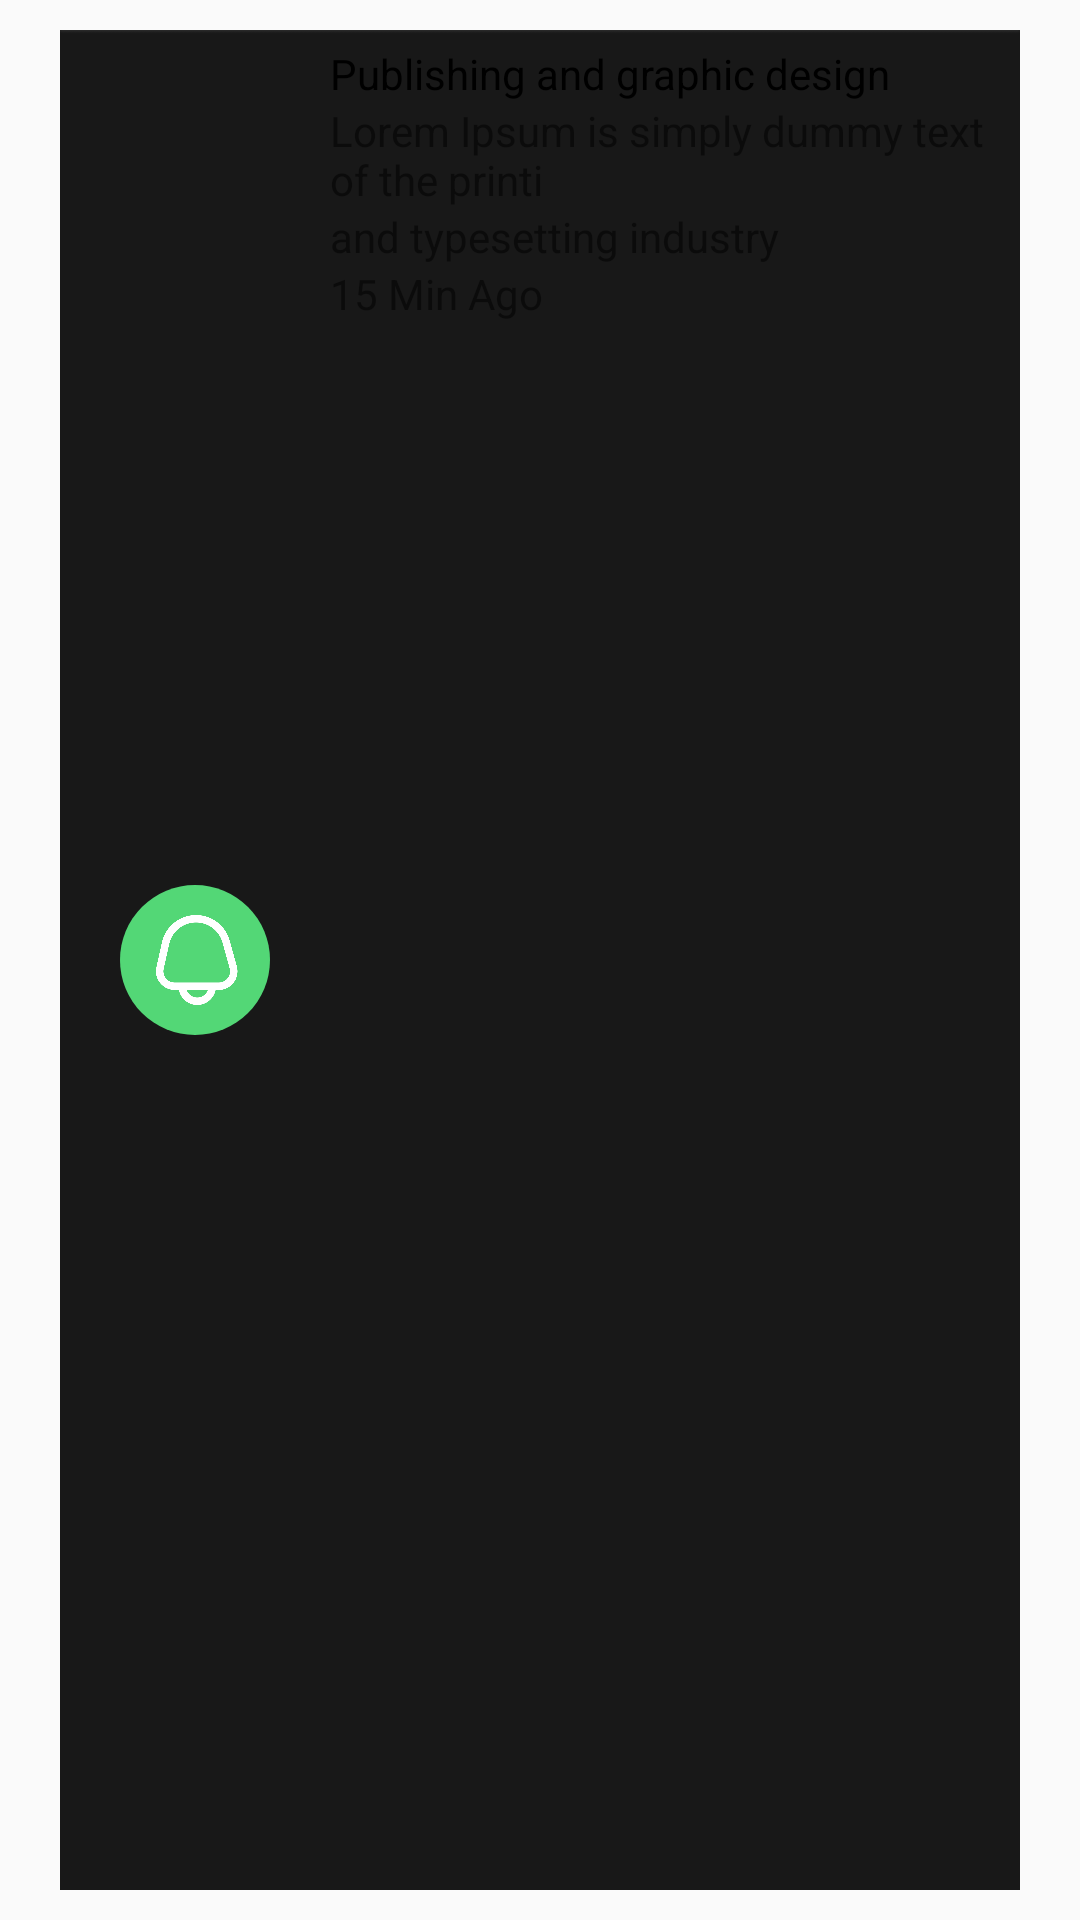

Named icons in this screenshot (1080 x 1920) and their bounding boxes, Rect(x1, y1, x2, y2):
notification: Rect(120, 885, 270, 1035)
